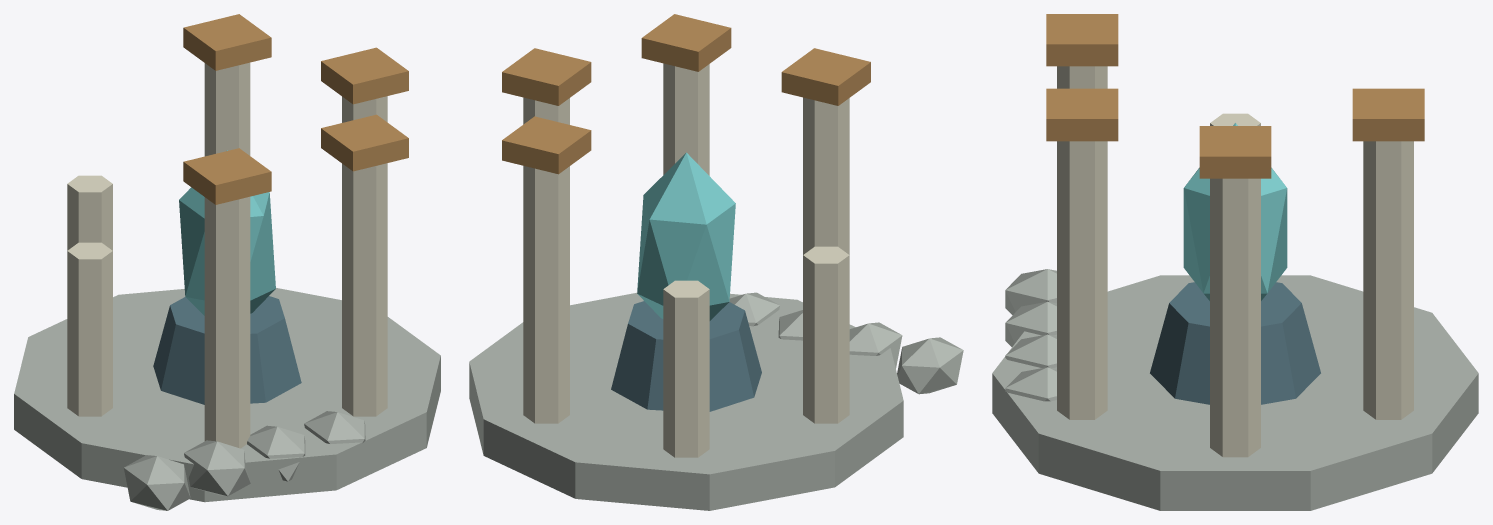
File: SM_Archive.fbx
3 renders of one model, left to right at view 1: azimuth 30°, elevation 25°; view 2: azimuth 150°, elevation 25°; view 3: azimuth 270°, elevation 25°, orthographic. The views are drawn at different scales.
Visible parts, largest first — view 1: SM_Archive; view 2: SM_Archive; view 3: SM_Archive.
Boxes of the visible parts, left/top/right/bottom form: SM_Archive: left=14, top=14, right=440, bottom=510; SM_Archive: left=469, top=14, right=963, bottom=510; SM_Archive: left=992, top=14, right=1478, bottom=510.
Size of the model in its own units: 4.21 by 4.4 by 3.46.
